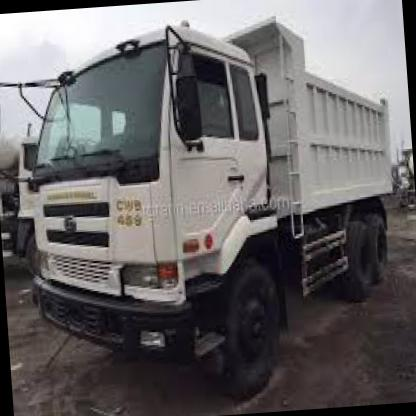truck: (19, 16, 292, 405)
